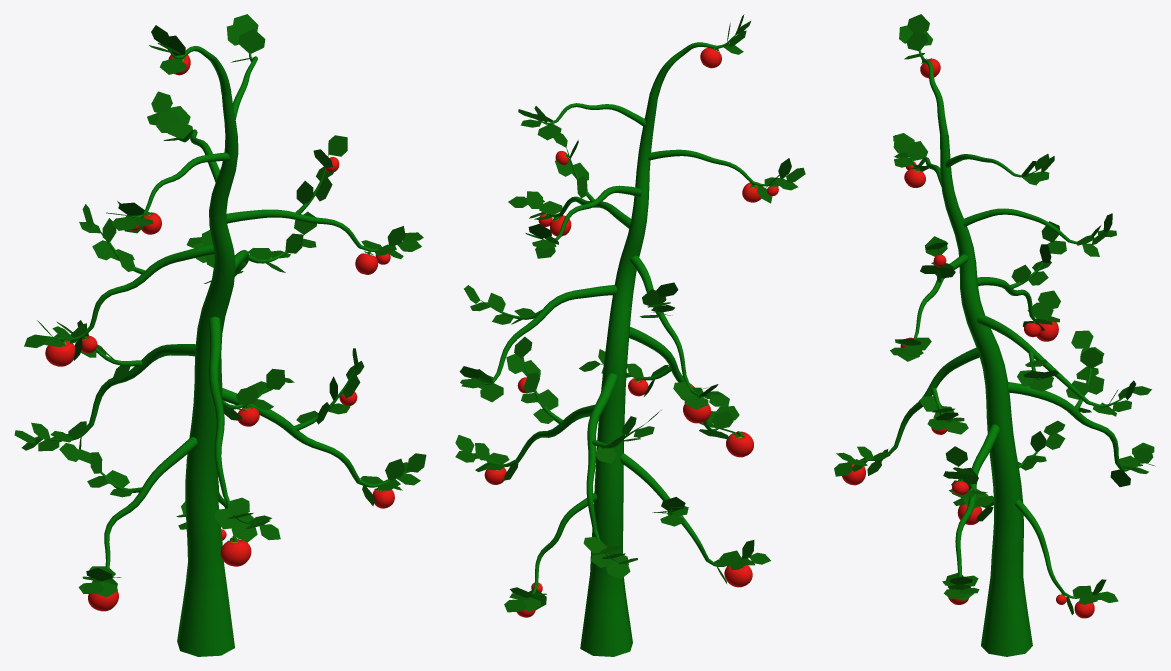
Rendered from TomatoPlant.fbx.
The picture shows the model from 3 angles, left to right: view 1: azimuth 30°, elevation 25°; view 2: azimuth 150°, elevation 25°; view 3: azimuth 270°, elevation 25°; orthographic projection. The views are drawn at different scales.
Parts seen in each view (by area): view 1: tree, leaves, Sphere.003, Sphere.004; view 2: tree, leaves, Sphere.003; view 3: tree, leaves.
Boxes of the visible parts, x1,y1,x2,y2 form: tree: (36,46,406,656); leaves: (14,14,426,597); Sphere.003: (220,535,251,566); Sphere.004: (45,337,75,366); tree: (471,32,785,656); leaves: (455,14,805,612); Sphere.003: (726,431,753,457); tree: (860,50,1129,656); leaves: (834,14,1155,614).
Size of the model in its own units: 449 by 832 by 413.
